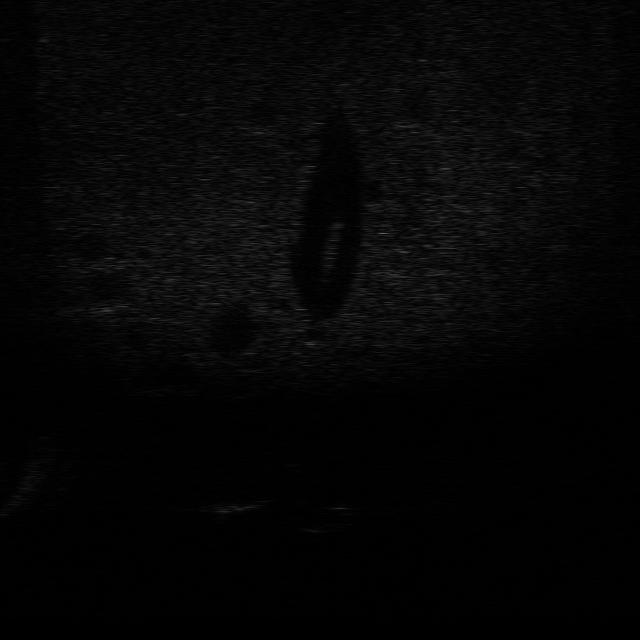ball: (273, 449, 315, 478)
square cage: (193, 494, 275, 522)
tyre: (288, 502, 362, 538)
